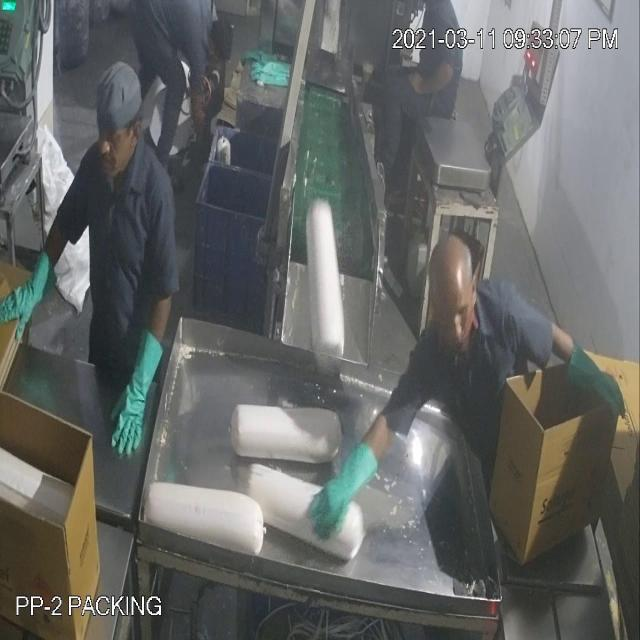No_Gloves: (34, 38, 597, 494)
